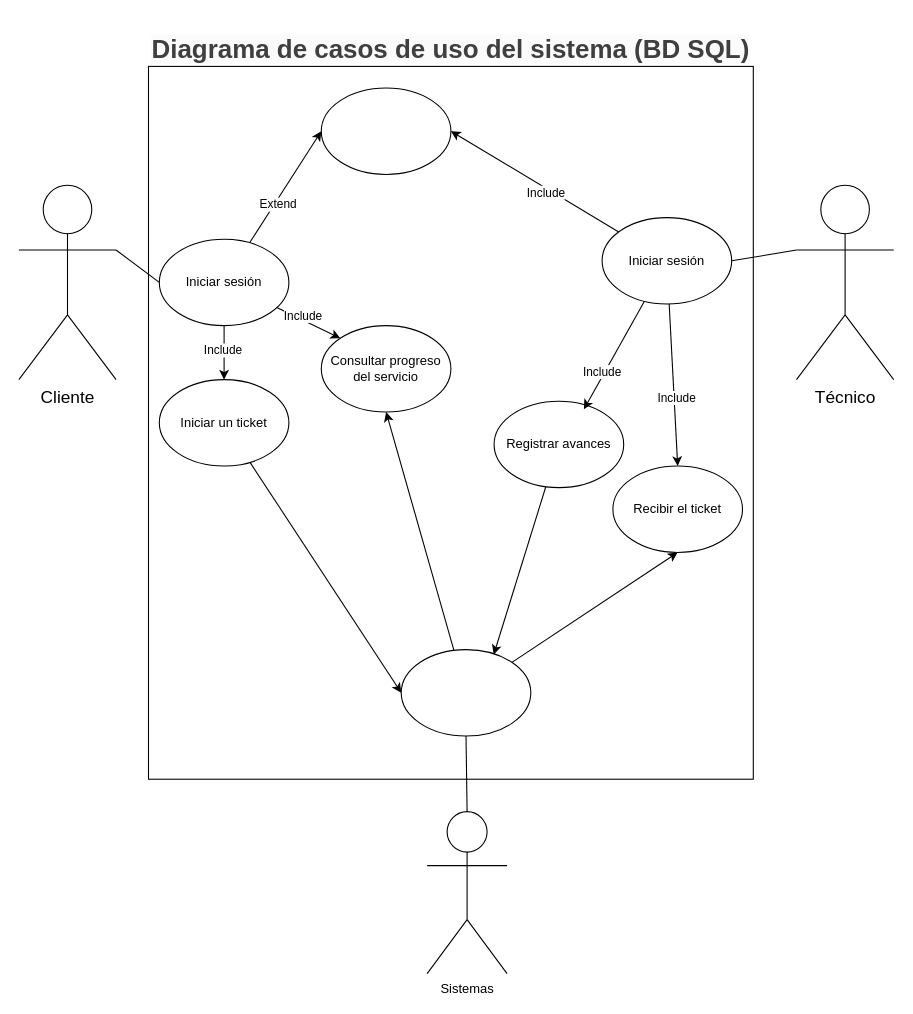
This 913x1014 diagram has some shape labels left out. The shapes that lost their labels are listed below. From the top down, each one's centre as x and y in pixels, then its label:
pixel 385 130: Contactar
pixel 465 692: Registros
